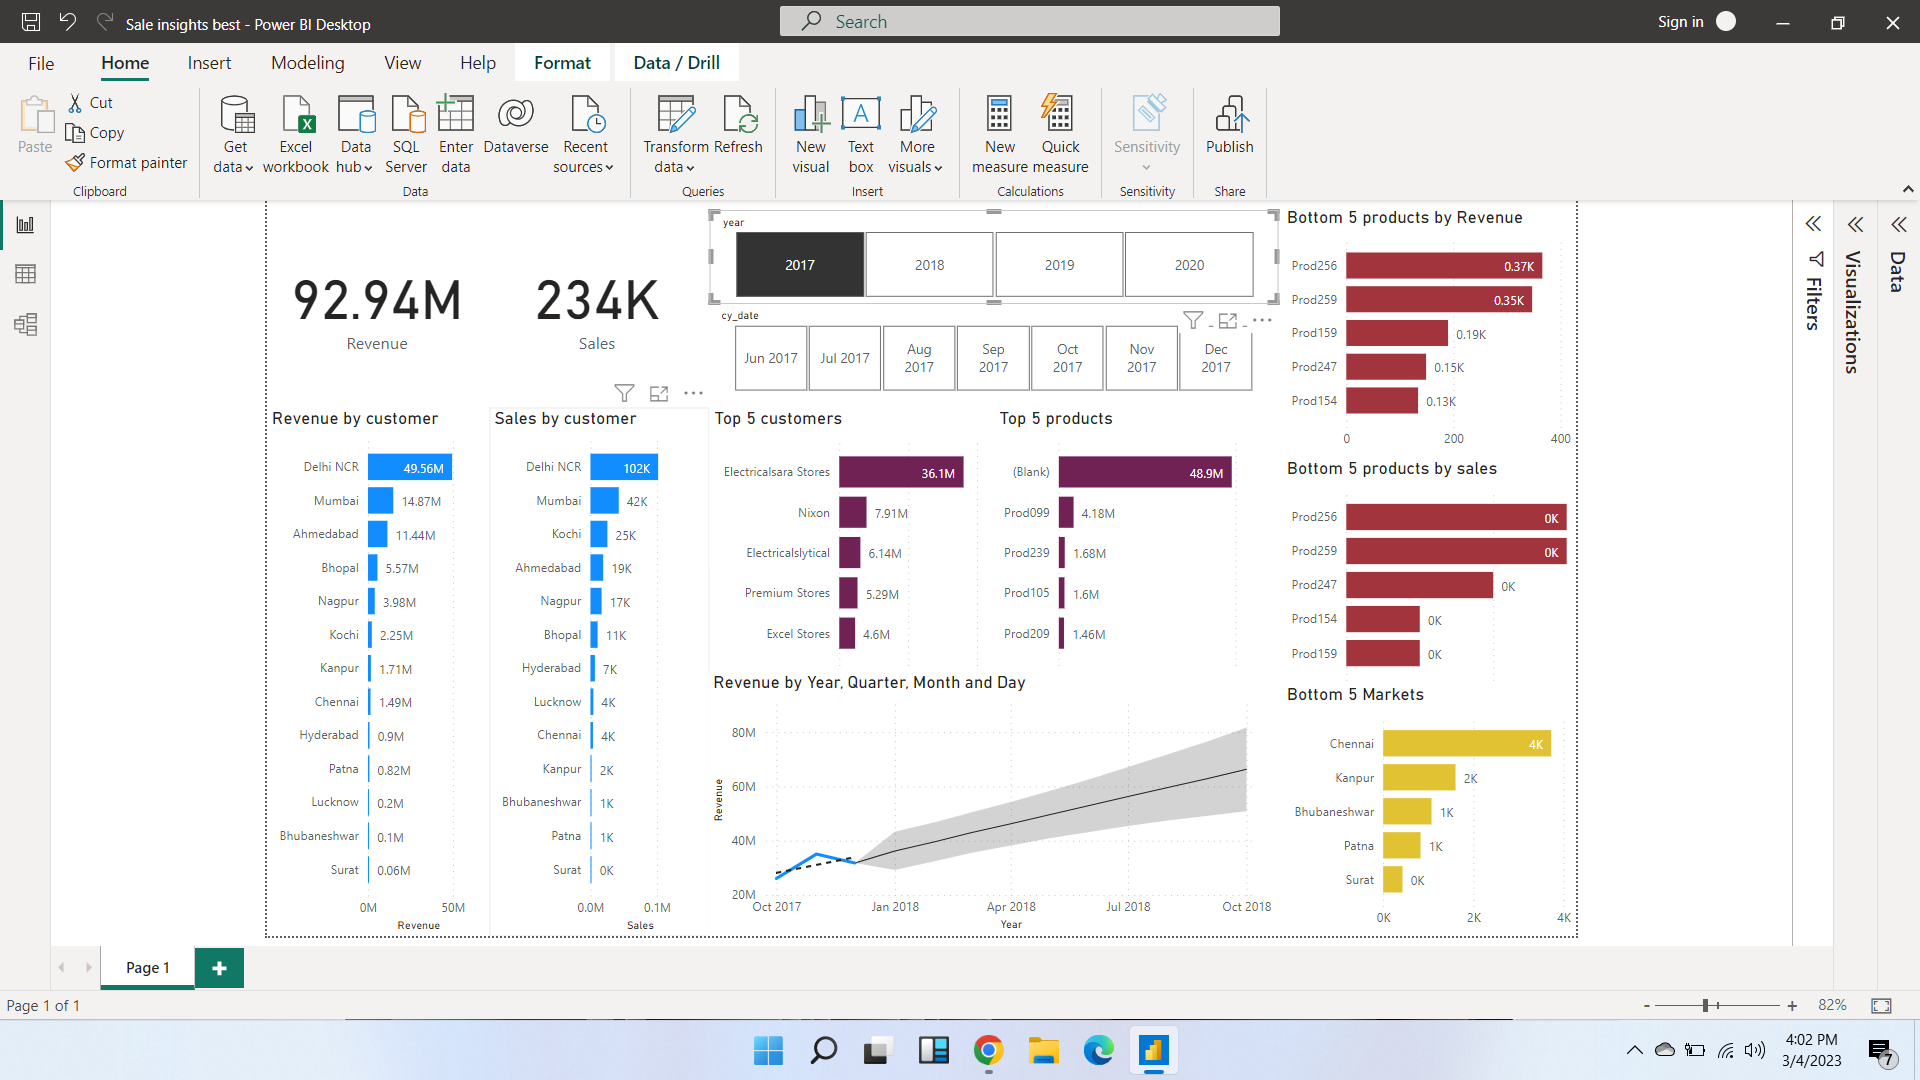

The page's visual inventory and layout, read from the dashboard file:
{"tool":"powerbi","page":{"name":"Page 1","canvas":[1280,720],"ordinal":0},"visuals":[{"type":"card","fields":{"Values":["base measures.Revenu"]},"box":[0,0,215.7,202.9],"z":0},{"type":"card","fields":{"Values":["base measures.Sales"]},"box":[215.7,0,215.7,202.9],"z":1000},{"type":"barChart","title":"Revenue by customer","fields":{"Y":["base measures.Revenu"],"Category":["sales markets.markets_name"]},"box":[0,202.9,215.7,517.1],"z":2000},{"type":"barChart","title":"Sales by customer","fields":{"Y":["base measures.Sales"],"Category":["sales markets.markets_name"]},"box":[217.1,202.9,215.7,517.1],"z":3000},{"type":"slicer","fields":{"Values":["sales date.year"]},"box":[432.9,10,555.7,91.4],"z":4000},{"type":"slicer","fields":{"Values":["sales date.cy_date"]},"box":[431.4,101.4,555.7,91.4],"z":5000},{"type":"barChart","title":"Top 5 customers","fields":{"Y":["base measures.Revenu"],"Category":["sales customers.custmer_name"]},"box":[432.9,202.9,278.6,281.4],"z":6000},{"type":"barChart","title":"Top 5 products","fields":{"Y":["base measures.Revenu"],"Category":["sales products.product_code"]},"box":[711.4,202.9,287.1,281.4],"z":7000},{"type":"lineChart","fields":{"Y":["base measures.Revenu"],"Category":["sales date.cy_date.Variation.Date Hierarchy.Year","sales date.cy_date.Variation.Date Hierarchy.Quarter","sales date.cy_date.Variation.Date Hierarchy.Month","sales date.cy_date.Variation.Date Hierarchy.Day"]},"box":[431.4,461.4,555.7,258.6],"z":8000},{"type":"barChart","title":"Bottom 5 products by Revenue","fields":{"Y":["base measures.Revenu"],"Category":["sales products.product_code"]},"box":[992.9,5.7,287.1,245.7],"z":9000},{"type":"barChart","title":"Bottom 5 products by sales","fields":{"Y":["base measures.Sales"],"Category":["sales products.product_code"]},"box":[992.9,251.4,287.1,247.1],"z":10000},{"type":"barChart","title":"Bottom 5 Markets","fields":{"Y":["base measures.Sales"],"Category":["sales markets.markets_name"]},"box":[992.9,472.9,287.1,247.1],"z":11000}]}

Visuals, with their boxes on the page's 1280x720 design canvas (x1, y1, x2, y2). These are canvas units, not pixel positions in the 1920x1080 screenshot, which may show the page scaled, cropped or inside an application window:
card - base measures.Revenu: (left=0, top=0, right=216, bottom=203)
card - base measures.Sales: (left=216, top=0, right=431, bottom=203)
"Revenue by customer" barChart: (left=0, top=203, right=216, bottom=720)
"Sales by customer" barChart: (left=217, top=203, right=433, bottom=720)
slicer - sales date.year: (left=433, top=10, right=989, bottom=101)
slicer - sales date.cy_date: (left=431, top=101, right=987, bottom=193)
"Top 5 customers" barChart: (left=433, top=203, right=712, bottom=484)
"Top 5 products" barChart: (left=711, top=203, right=998, bottom=484)
lineChart - base measures.Revenu x sales date.cy_date.Variation.Date Hierarchy.Year: (left=431, top=461, right=987, bottom=720)
"Bottom 5 products by Revenue" barChart: (left=993, top=6, right=1280, bottom=251)
"Bottom 5 products by sales" barChart: (left=993, top=251, right=1280, bottom=498)
"Bottom 5 Markets" barChart: (left=993, top=473, right=1280, bottom=720)
